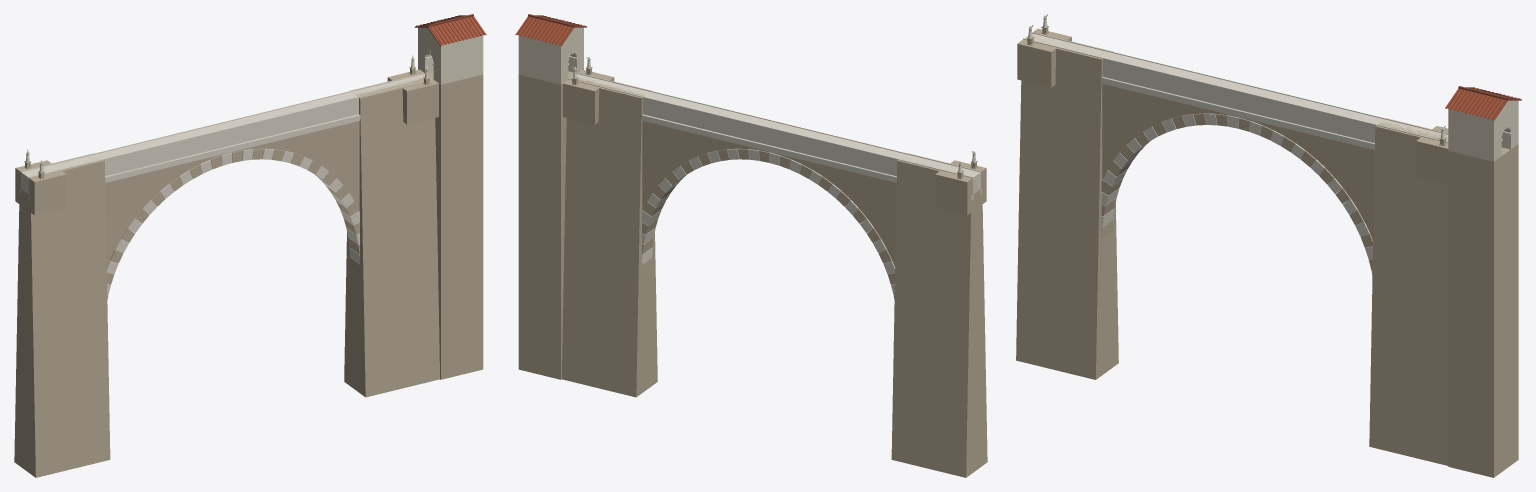
File: ant_bridge.glb
The picture shows the model from 3 angles, left to right: view 1: azimuth 30°, elevation 25°; view 2: azimuth 150°, elevation 25°; view 3: azimuth 330°, elevation 25°; orthographic projection. The views are drawn at different scales.
Visible parts, largest first — view 1: ant_bridge; view 2: ant_bridge; view 3: ant_bridge.
Part boxes in pixels (left/top/right/bottom): ant_bridge: left=14, top=14, right=486, bottom=477; ant_bridge: left=515, top=14, right=987, bottom=477; ant_bridge: left=1016, top=14, right=1521, bottom=477.
Bounding box in the file's own units: 84.3 × 62.21 × 8.56.
